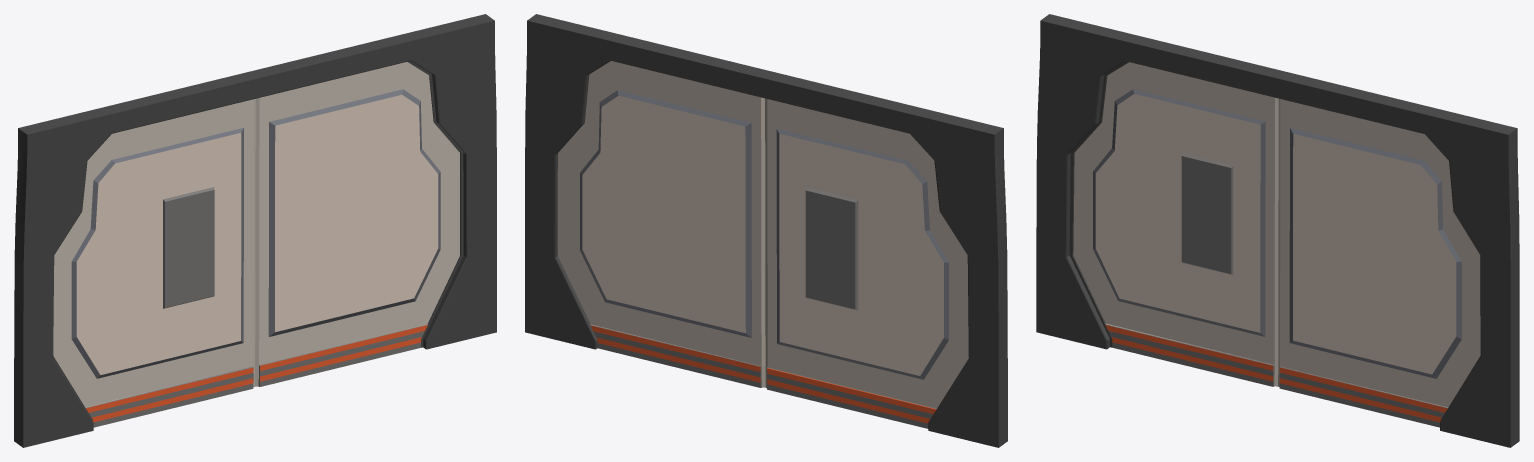
File: 065b0495-1dfb-48f9-baa5-b5028bd56a89.glb
3 views of the same model, side by side, from view 1: azimuth 30°, elevation 25°; view 2: azimuth 150°, elevation 25°; view 3: azimuth 330°, elevation 25° (orthographic).
Parts seen in each view (by area): view 1: Hallway_Module_Door_01; view 2: Hallway_Module_Door_01; view 3: Hallway_Module_Door_01.
Part boxes in pixels (x1,y1,x2,y2): Hallway_Module_Door_01: (14, 14, 496, 447); Hallway_Module_Door_01: (525, 14, 1007, 447); Hallway_Module_Door_01: (1036, 14, 1519, 447).
Size of what is drawn, in the model's own units: 6.03 by 3.8 by 0.2.
Materials: 1 (1 with a texture image).
